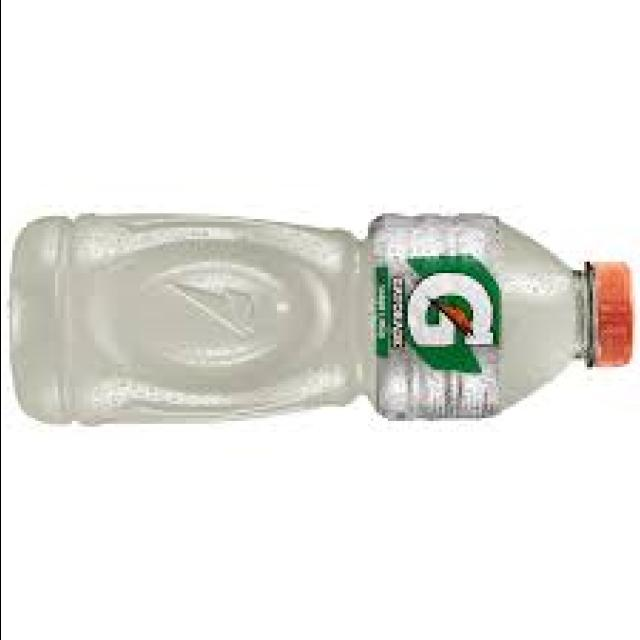bottom: (7, 195, 80, 447)
cap: (568, 248, 633, 384)
